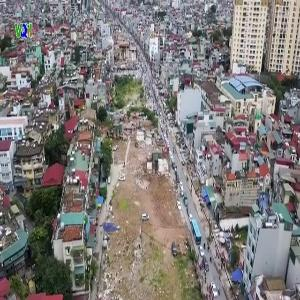drone: (93, 210, 129, 246)
